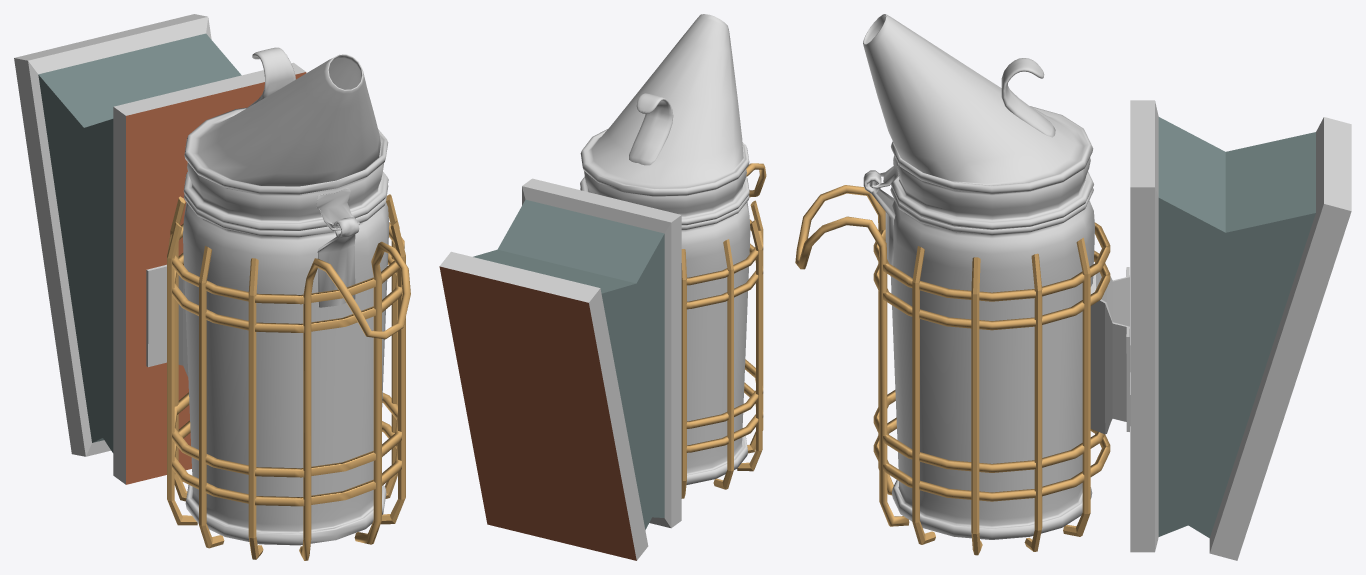
File: Mesh_Smoker_002.fbx
3 views of the same model, side by side, from view 1: azimuth 30°, elevation 25°; view 2: azimuth 150°, elevation 25°; view 3: azimuth 270°, elevation 25° (orthographic). The views are drawn at different scales.
Visible parts, largest first — view 1: Mesh_Smoker.001; view 2: Mesh_Smoker.001; view 3: Mesh_Smoker.001.
Boxes of the visible parts, box(x1,y1,x2,y2) form: Mesh_Smoker.001: box(14, 14, 410, 560); Mesh_Smoker.001: box(439, 14, 766, 560); Mesh_Smoker.001: box(795, 14, 1351, 560).
Bounding box in the file's own units: 231 × 538 × 541.
